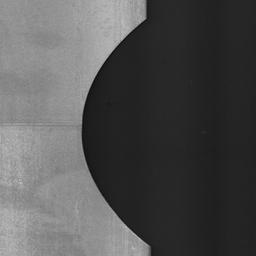Crescent gap: (81, 20, 150, 247)
